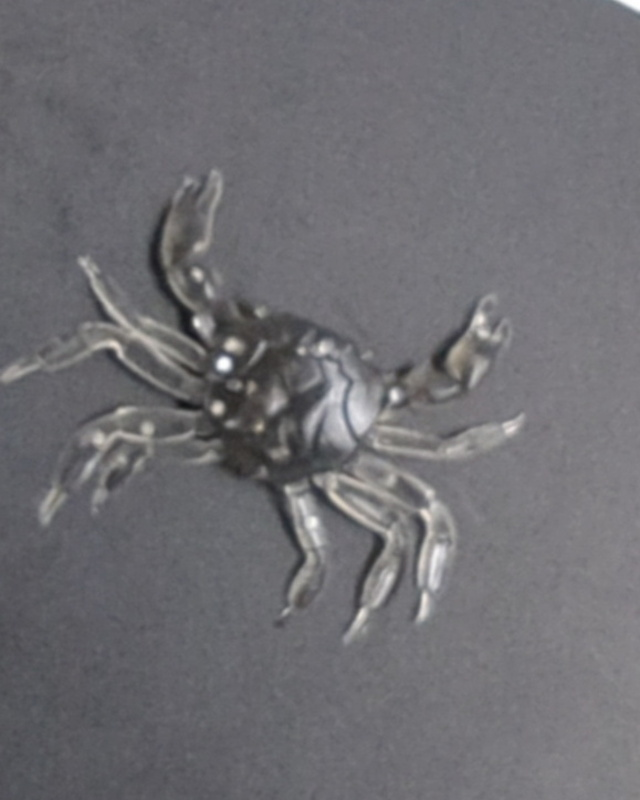crab1: (2, 170, 526, 642)
